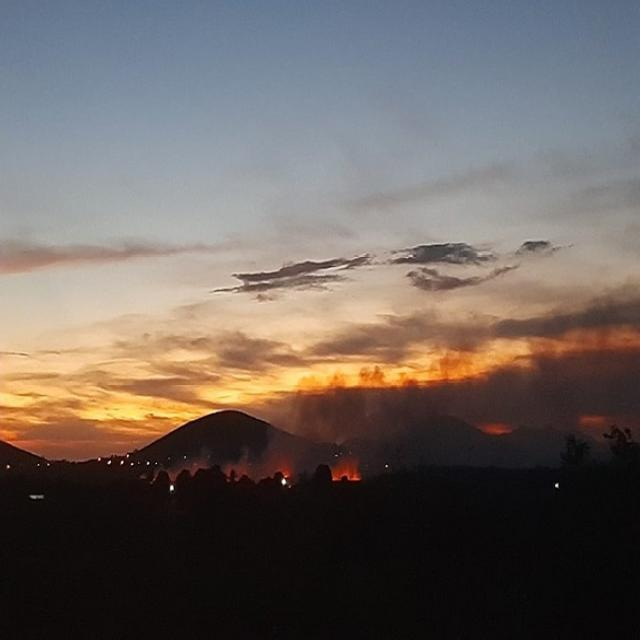Fire: (323, 452, 363, 485)
Smoke: (158, 414, 404, 494)
